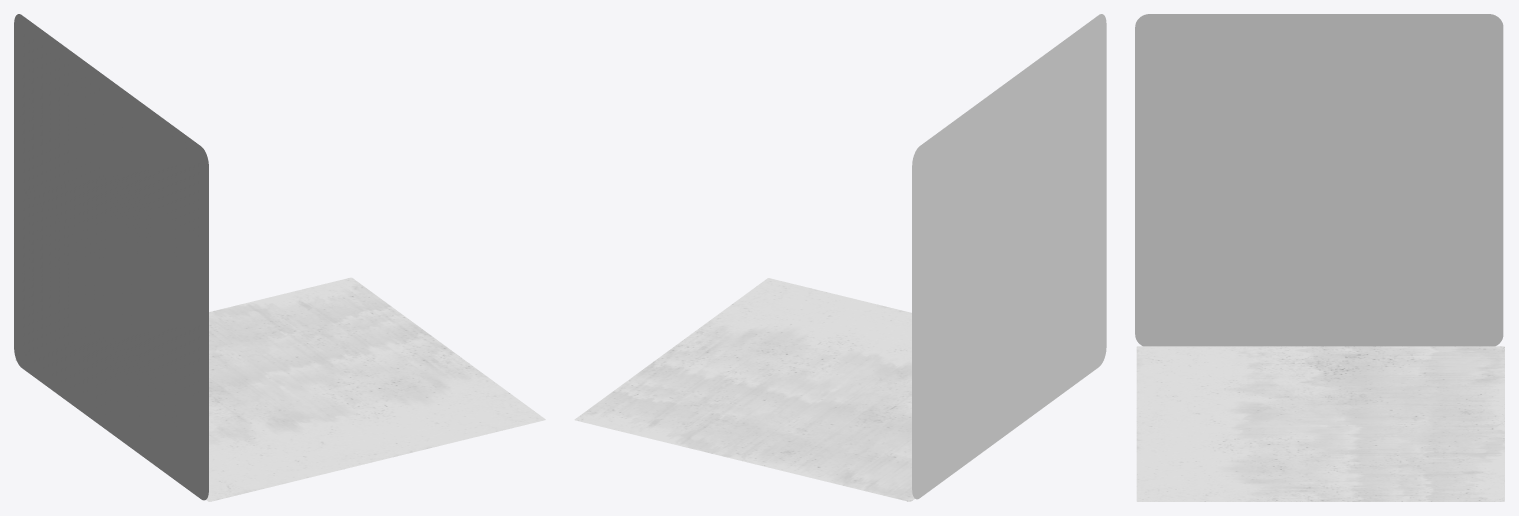
Rendered from Demo.obj.
3 views of the same model, side by side, from view 1: azimuth 30°, elevation 25°; view 2: azimuth 150°, elevation 25°; view 3: azimuth 270°, elevation 25° (orthographic). The views are drawn at different scales.
Visible parts, largest first — view 1: 000_Plane_1, 001_Plane; view 2: 000_Plane_1, 001_Plane; view 3: 000_Plane_1, 001_Plane.
Part boxes in pixels (box(x1,y1,x2,y2)): 000_Plane_1: box(14, 14, 208, 500); 001_Plane: box(15, 277, 545, 501); 000_Plane_1: box(912, 14, 1106, 499); 001_Plane: box(574, 278, 914, 501); 000_Plane_1: box(1135, 14, 1503, 346); 001_Plane: box(1136, 346, 1504, 501).
Size of the model in its own units: 1003 by 1000 by 1004.
